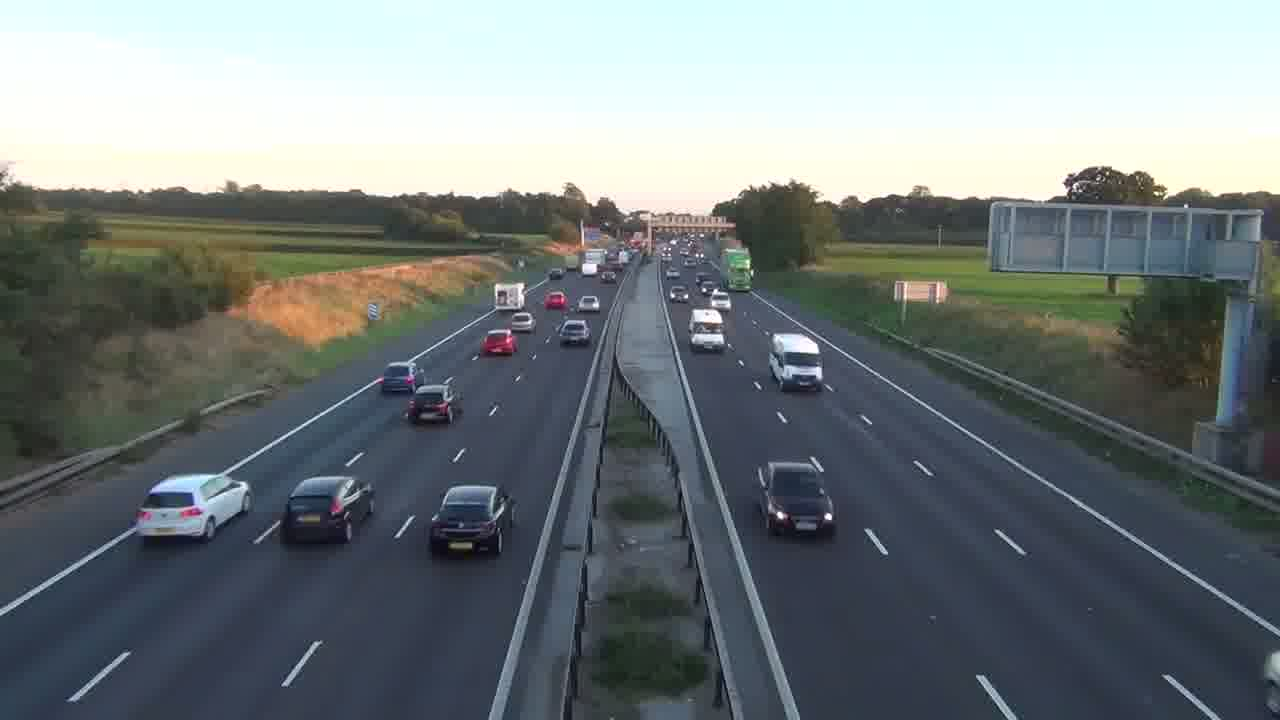car: (134, 473, 253, 543), (428, 483, 517, 556), (280, 475, 374, 543), (755, 458, 836, 536), (403, 379, 454, 424), (381, 361, 422, 393), (480, 328, 517, 356), (557, 317, 591, 346), (510, 311, 536, 334)
truck: (767, 332, 824, 392), (494, 282, 526, 309)
